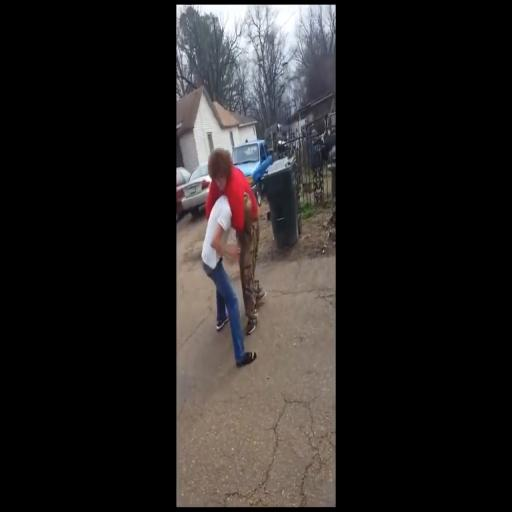violencia: (188, 128, 276, 379)
